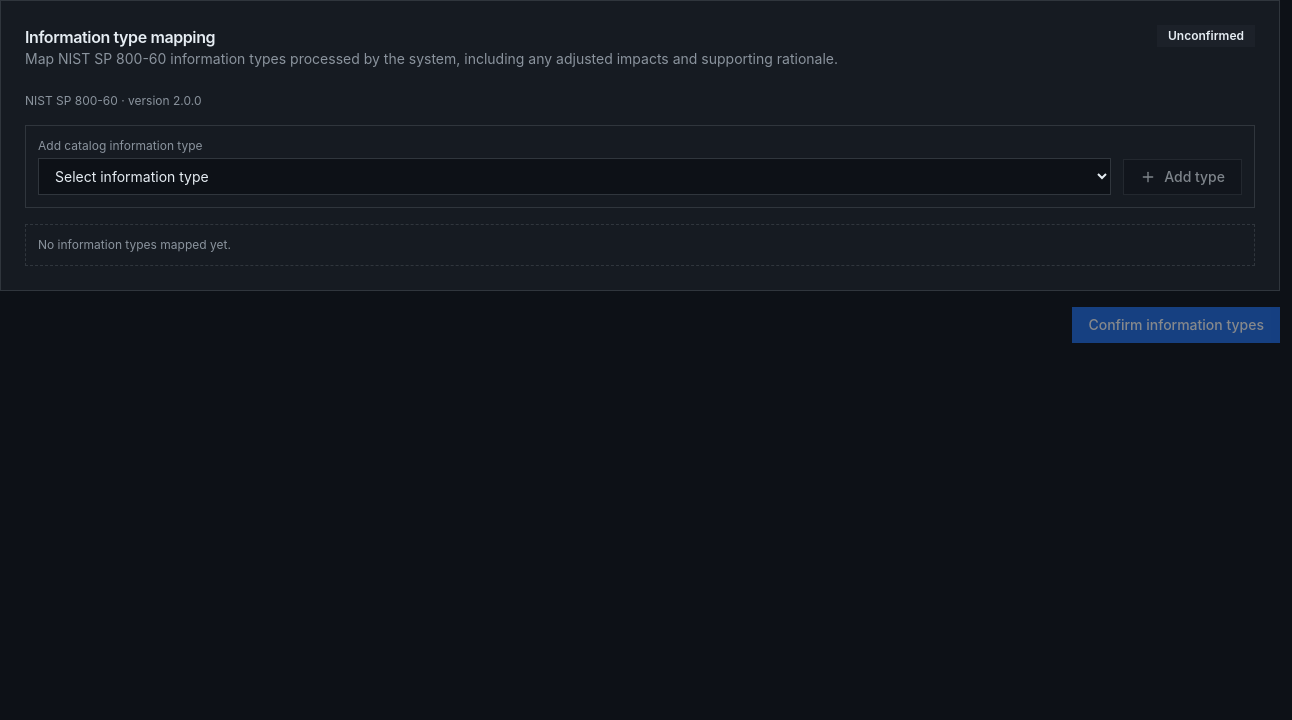
InformationTypesPanel › requires catalog selection and description before confirming
Later steps or results of the test are not shown.
Expected: the button "Confirm information types" is disabled, x1=1072 y1=307 x2=1280 y2=343
Select "D.14.2 · Financial Management — Grants" in the dropdown labelled "catalog information type" at {"x": 575, "y": 176}, box x1=38 y1=158 x2=1111 y2=195
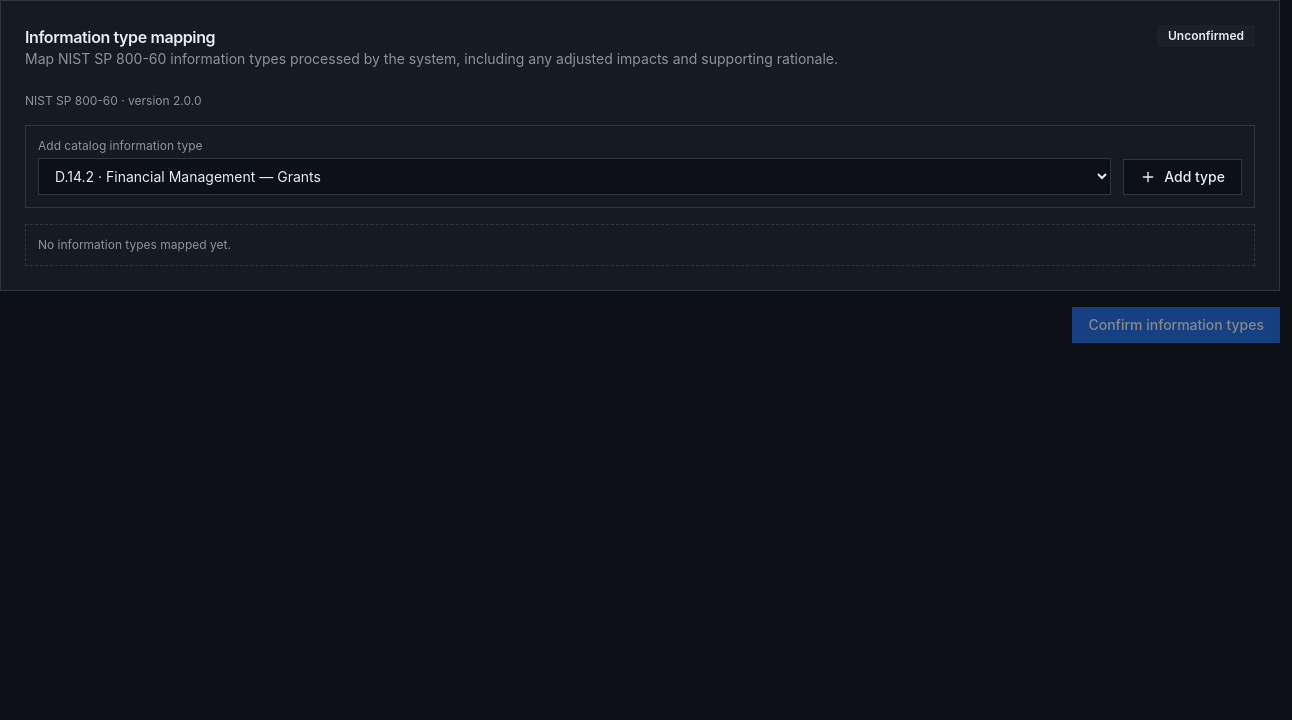
Click the button "Add type" at {"x": 1183, "y": 177}, box x1=1123 y1=159 x2=1242 y2=195
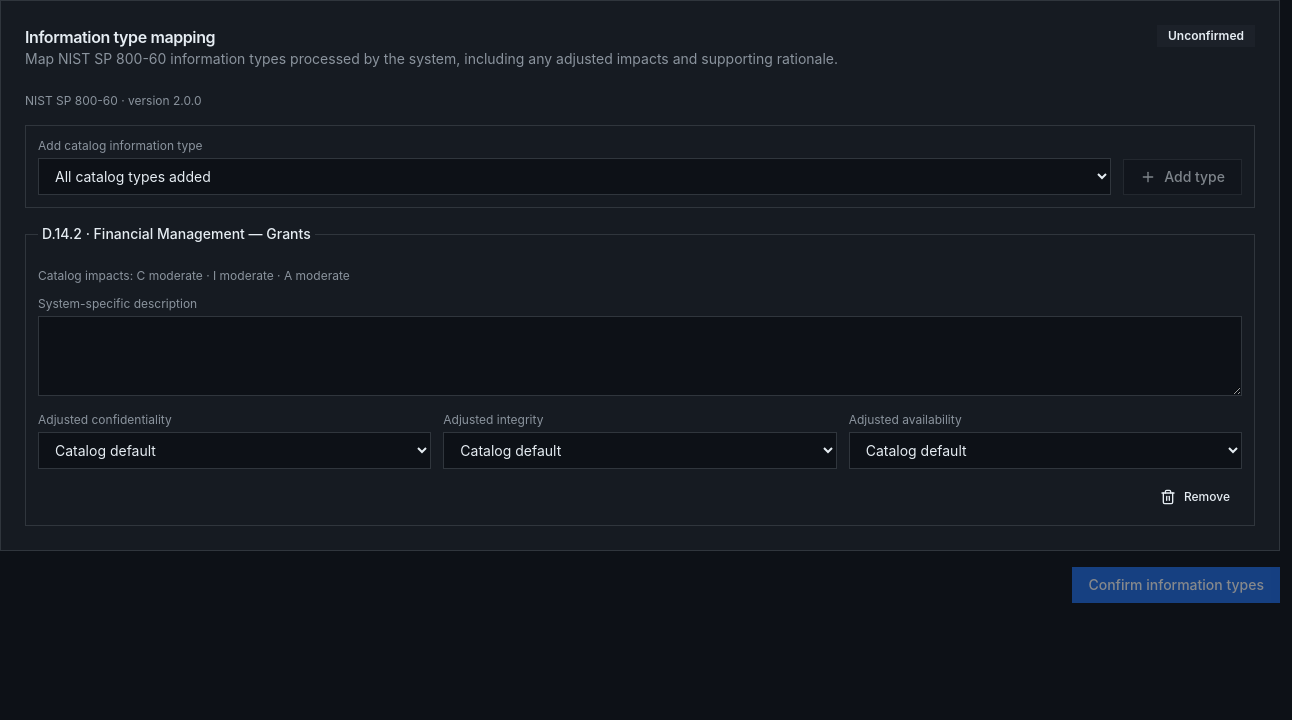
Type "The system processes grant application data." into the text box named "Information type 1 description" at {"x": 640, "y": 356}, box x1=38 y1=316 x2=1242 y2=396
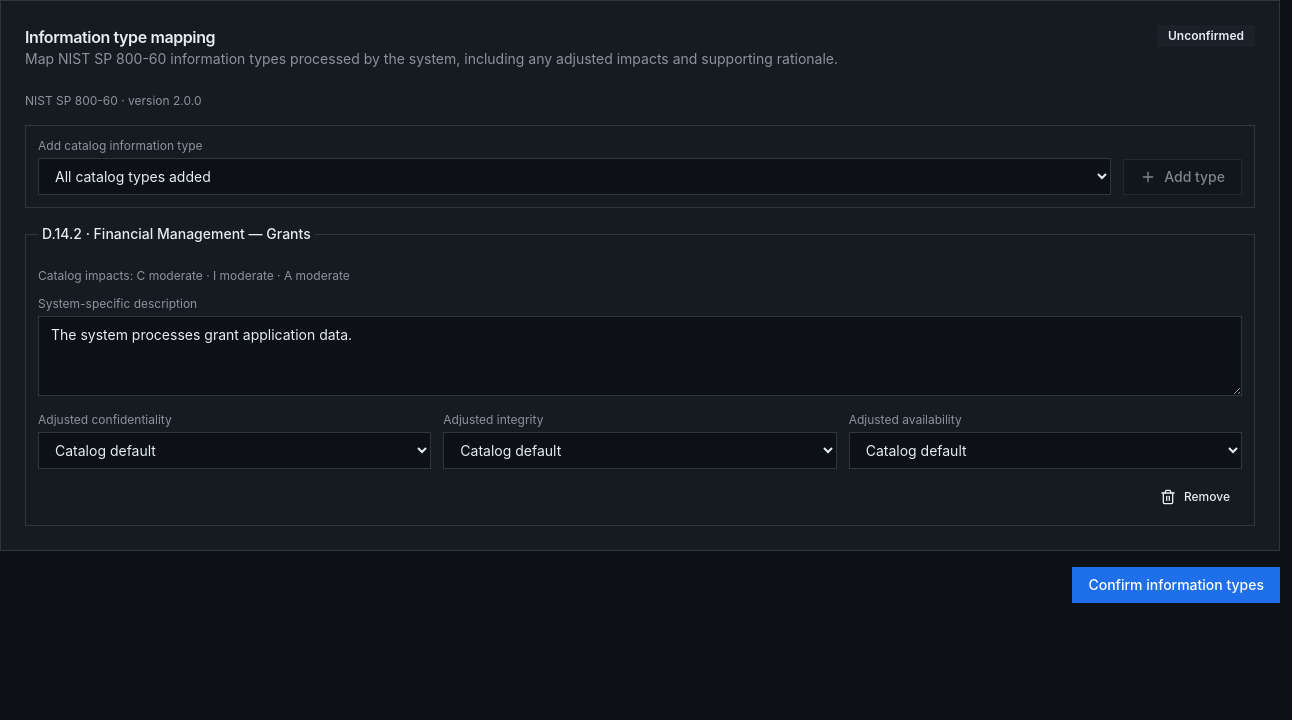
Expected: the button "Confirm information types" is enabled, x1=1072 y1=567 x2=1280 y2=603
